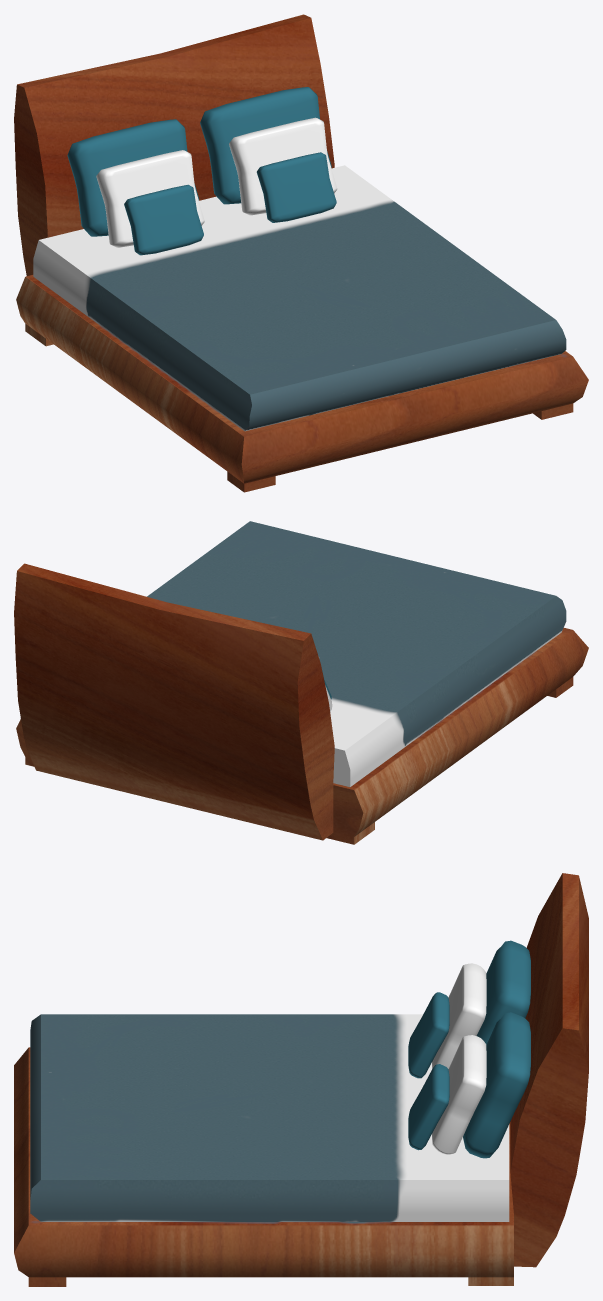
File: bed.glb
The picture shows the model from 3 angles, top to bottom: view 1: azimuth 30°, elevation 25°; view 2: azimuth 150°, elevation 25°; view 3: azimuth 270°, elevation 25°; orthographic projection. The views are drawn at different scales.
Visible parts, largest first — view 1: bed; view 2: bed; view 3: bed.
Part boxes in pixels (x1=…): bed: x1=14, y1=14, x2=588, y2=492; bed: x1=14, y1=521, x2=588, y2=844; bed: x1=14, y1=873, x2=588, y2=1286.
Size of the model in its own units: 514 by 316 by 665.
3 materials, 1 textured.
